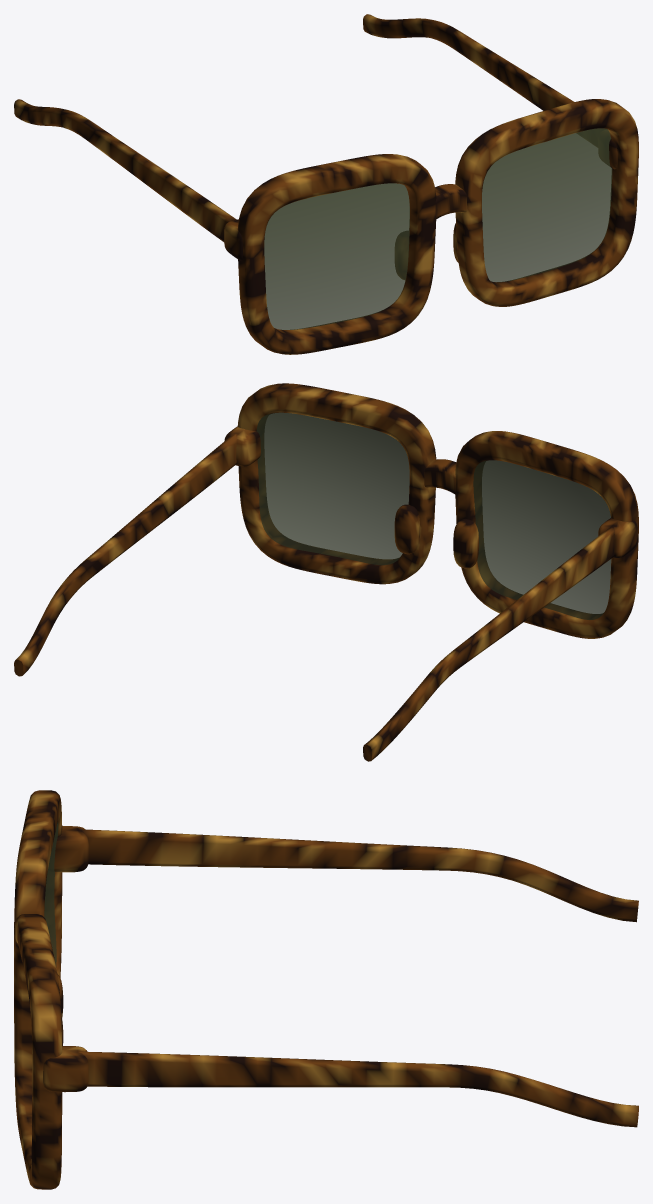
The model's file is TO-SQR-02.glb.
The picture shows the model from 3 angles, top to bottom: view 1: azimuth 30°, elevation 25°; view 2: azimuth 150°, elevation 25°; view 3: azimuth 270°, elevation 25°; orthographic projection. The views are drawn at different scales.
Parts seen in each view (by area): view 1: frame, lenses; view 2: frame, lenses; view 3: frame, lenses.
Part boxes in pixels (box(x1,y1,x2,y2)): frame: box(14, 14, 638, 354); lenses: box(264, 128, 612, 330); frame: box(14, 383, 638, 761); lenses: box(256, 412, 611, 619); frame: box(14, 790, 638, 1189); lenses: box(44, 822, 58, 966).
Size of the model in its own units: 0.1332 by 0.0572 by 0.1497.
